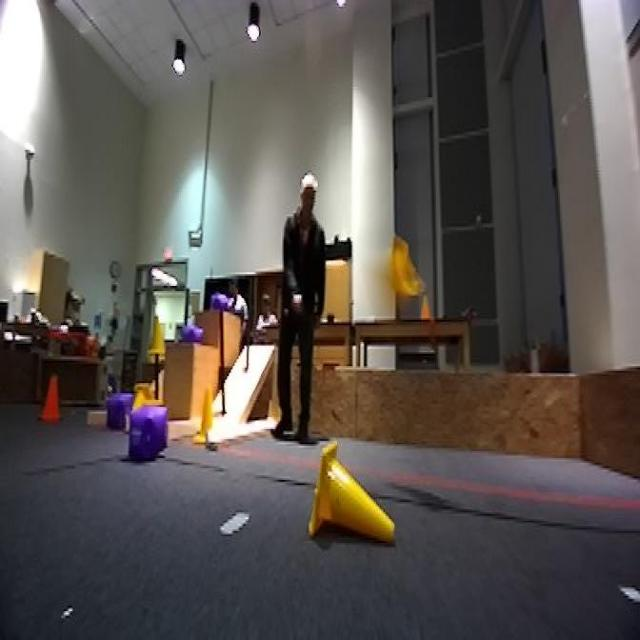frc_cone: (310, 442, 396, 540), (383, 232, 420, 308), (144, 305, 173, 364), (192, 385, 215, 441), (130, 378, 165, 412)
frc_cube: (130, 408, 166, 464), (101, 390, 134, 429), (175, 318, 207, 342), (208, 293, 230, 313)
